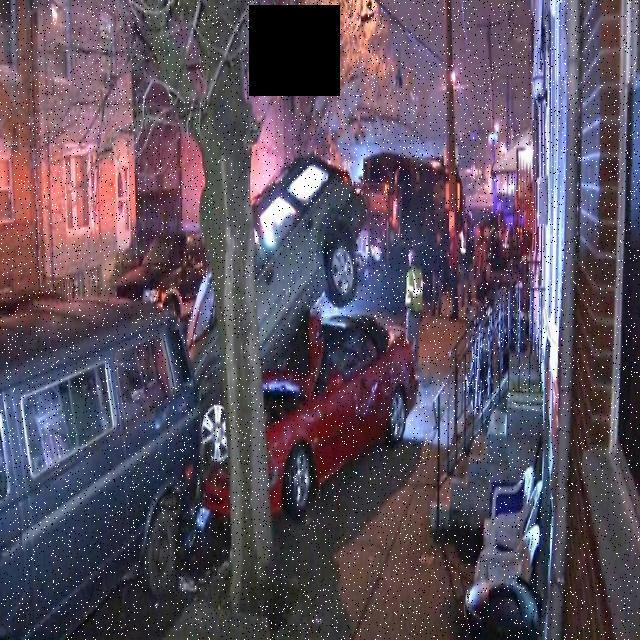severe: (174, 135, 423, 537)
